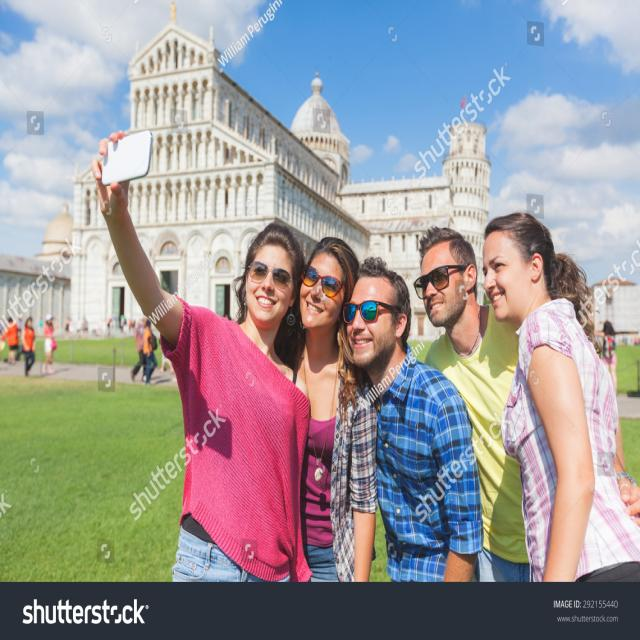body: (91, 130, 311, 587), (413, 222, 640, 584), (481, 212, 639, 583), (342, 258, 483, 582), (293, 237, 379, 582), (61, 309, 141, 339), (594, 319, 618, 397), (130, 314, 148, 382), (142, 319, 158, 387), (41, 314, 57, 374), (20, 317, 36, 377), (0, 316, 19, 364), (619, 336, 640, 349)
